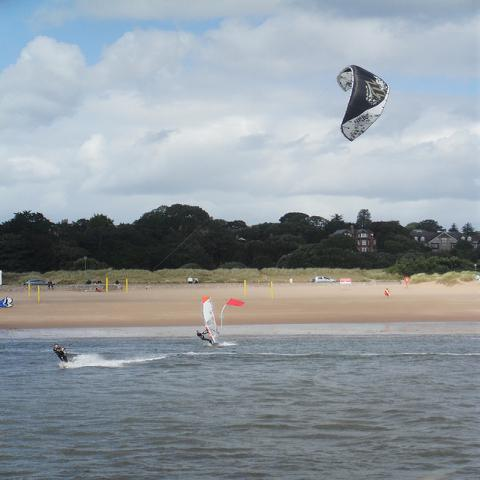car: (312, 276, 336, 284), (24, 279, 47, 285)
